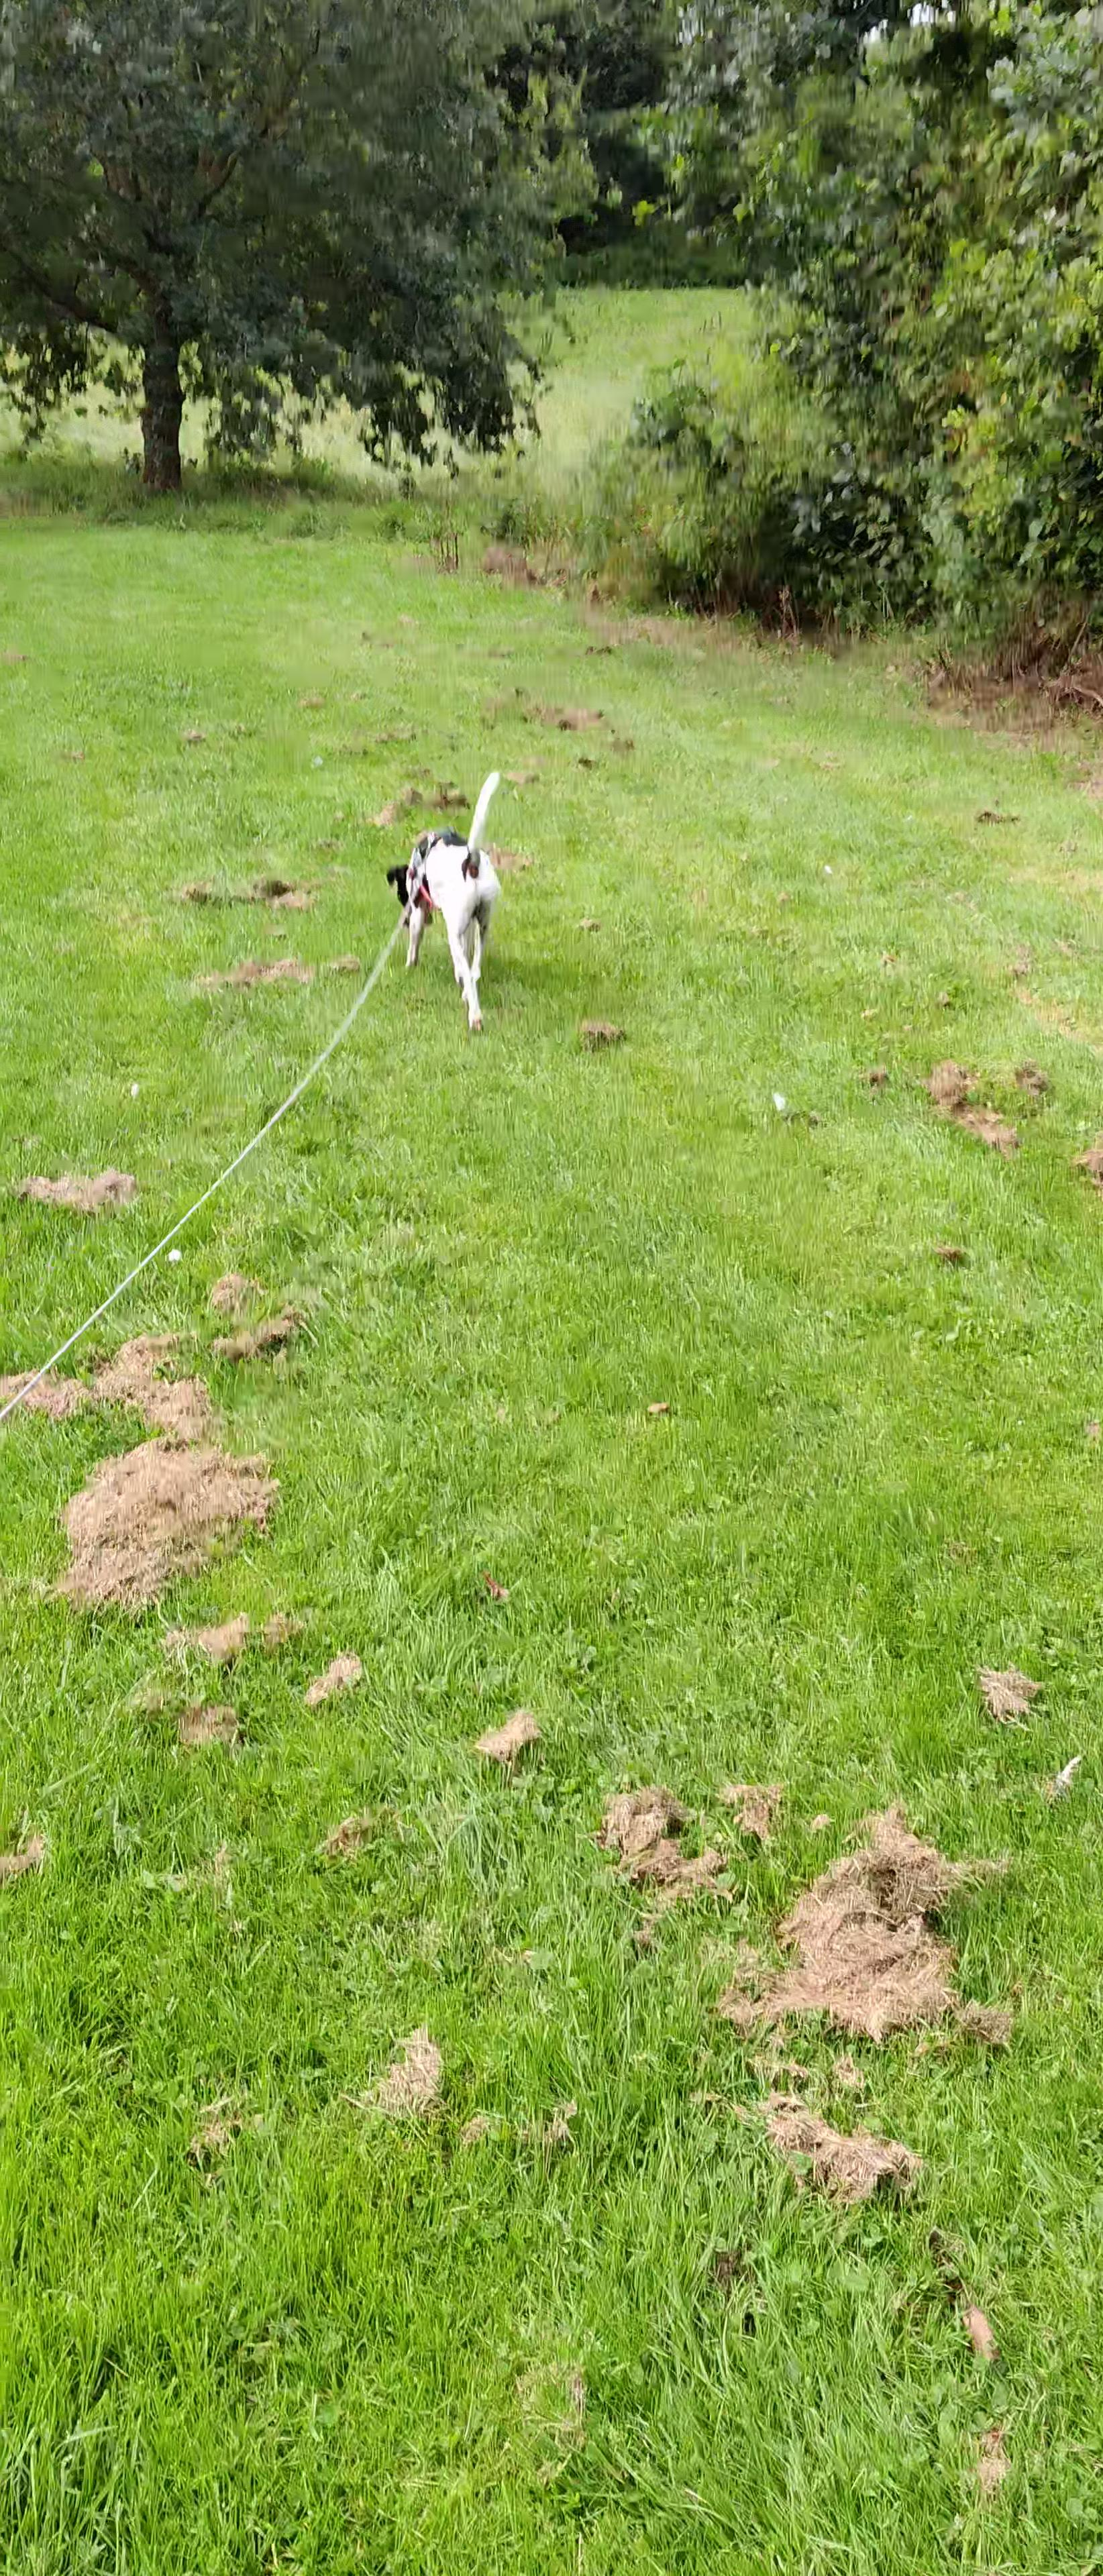Dog: (365, 754, 526, 1042)
